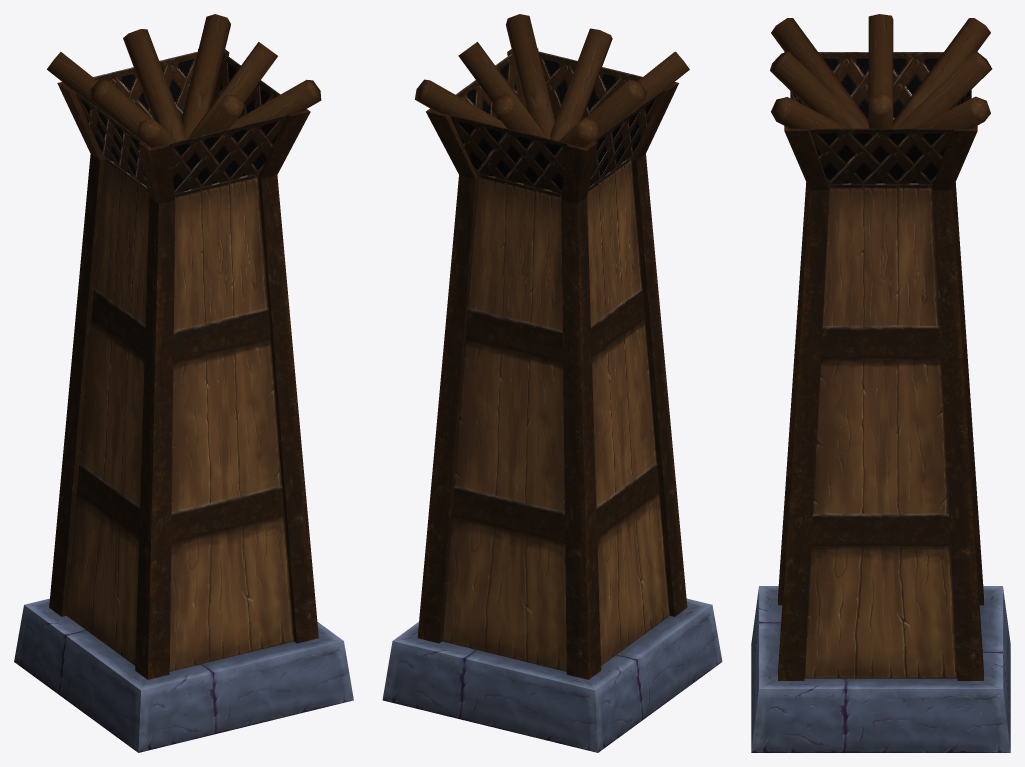
Rendered from torch.glb.
3 views of the same model, side by side, from view 1: azimuth 30°, elevation 25°; view 2: azimuth 150°, elevation 25°; view 3: azimuth 270°, elevation 25° (orthographic). The views are drawn at different scales.
Parts seen in each view (by area): view 1: Torch; view 2: Torch; view 3: Torch.
Boxes of the visible parts, box(x1,y1,x2,y2) form: Torch: box(14, 14, 353, 752); Torch: box(382, 14, 722, 752); Torch: box(751, 14, 1010, 752).
Bounding box in the file's own units: 1.4 × 3.85 × 1.4.
1 material, 1 textured.
